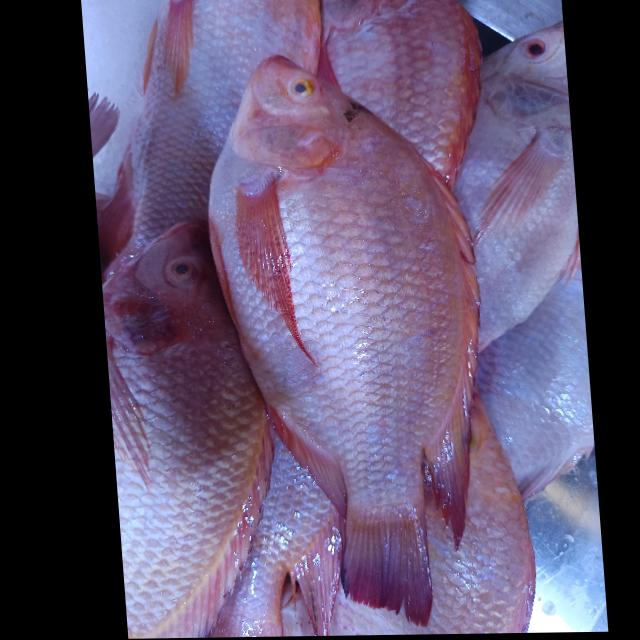Tilapia: (191, 52, 494, 629), (96, 215, 287, 638), (432, 11, 586, 354)
